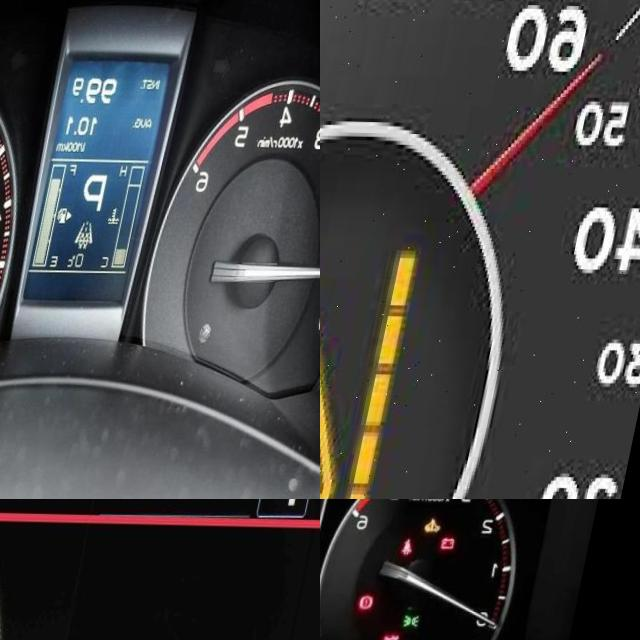Seat Belt: (416, 536, 429, 554)
